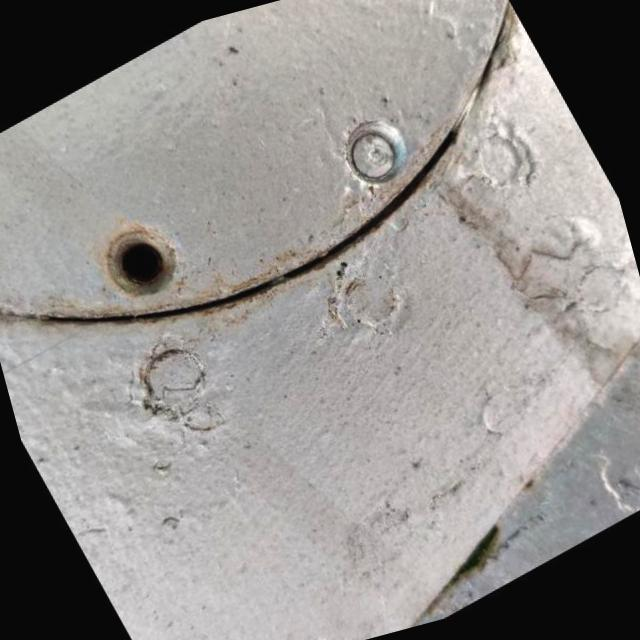Missing Fastener: (99, 218, 181, 299)
